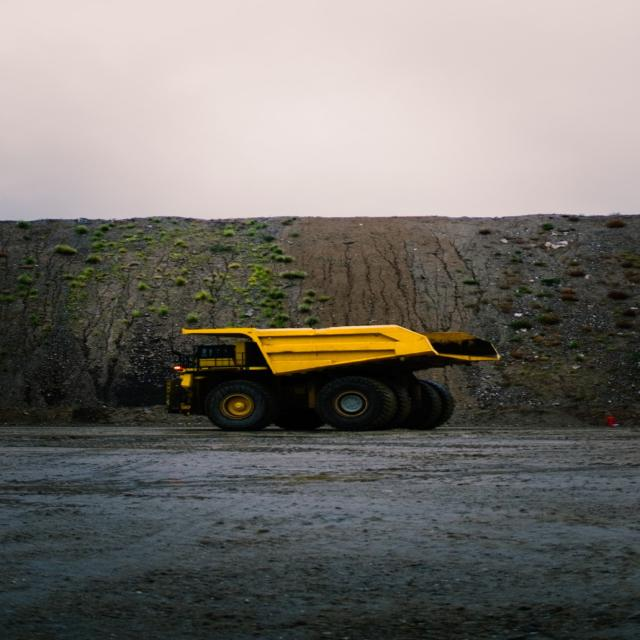dump_truck: (158, 313, 509, 438)
